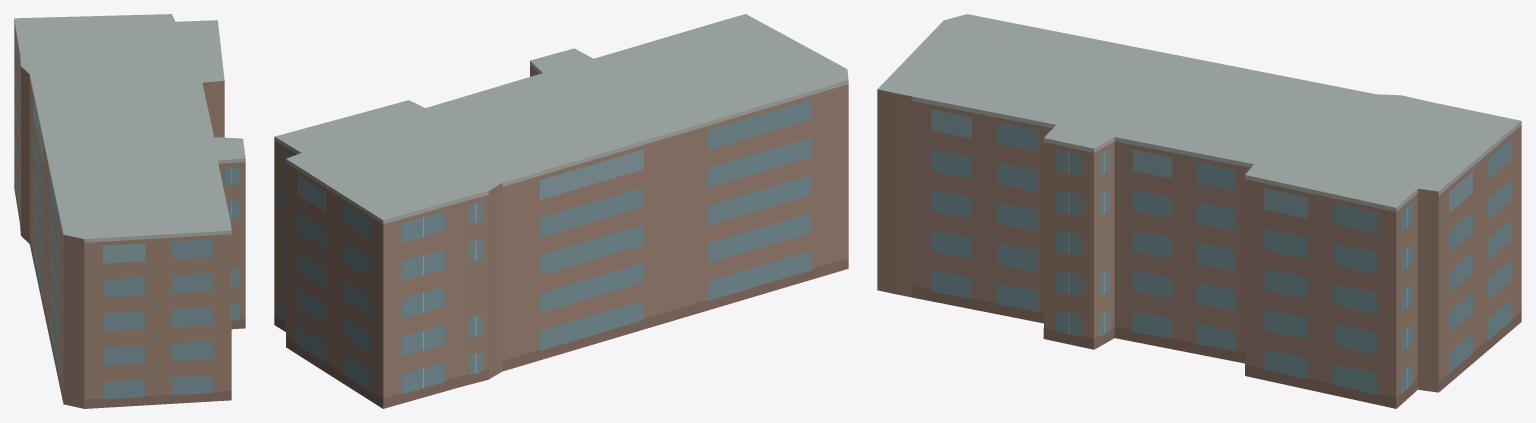
Rendered from survey-upis-33010087.glb.
3 views of the same model, side by side, from view 1: azimuth 30°, elevation 25°; view 2: azimuth 150°, elevation 25°; view 3: azimuth 270°, elevation 25° (orthographic). The views are drawn at different scales.
Parts seen in each view (by area): view 1: survey-upis-33010087.tmp; view 2: survey-upis-33010087.tmp; view 3: survey-upis-33010087.tmp.
Boxes of the visible parts, box(x1,y1,x2,y2) form: survey-upis-33010087.tmp: box(14, 14, 245, 408); survey-upis-33010087.tmp: box(274, 14, 848, 408); survey-upis-33010087.tmp: box(877, 14, 1521, 408).
Bounding box in the file's own units: 23.99 × 11.59 × 33.67.
